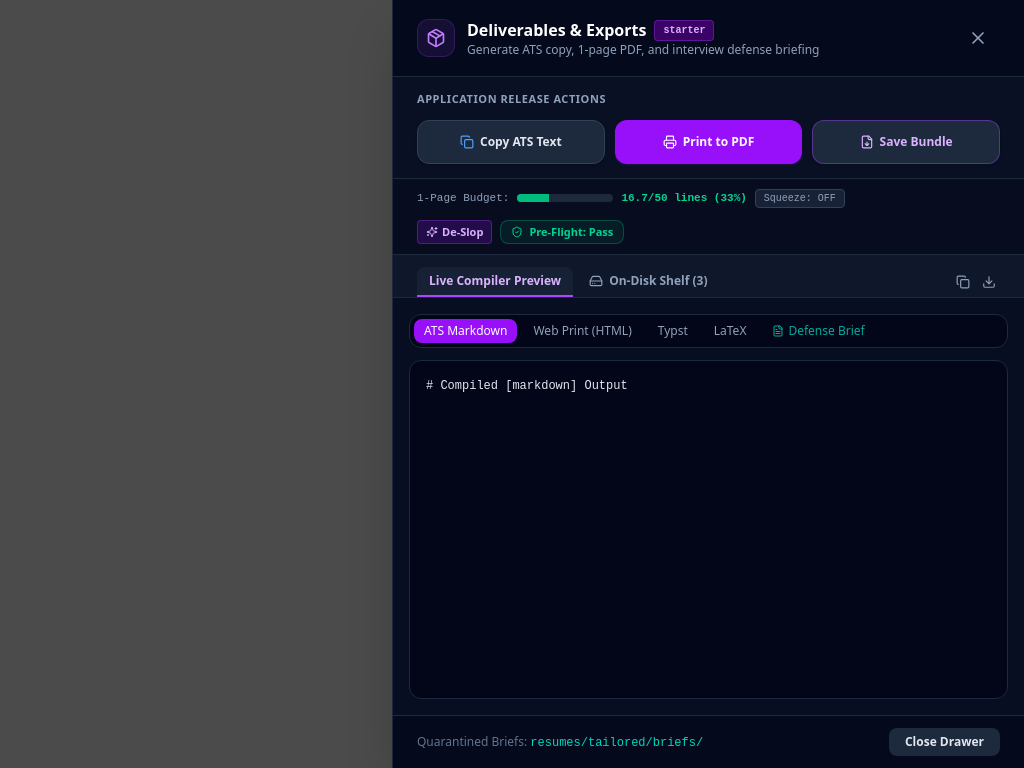
it: ExportDrawer Component Tests › renders flyout drawer when isOpen is true
The image size is (1024, 768).
Expected: the heading "Deliverables & Exports starter" is shown, left=467, top=19, right=714, bottom=41
Expected: the text "starter" is shown, left=654, top=20, right=714, bottom=40
Click the button "On-Disk Shelf (3)" at (648, 282), box left=577, top=268, right=720, bottom=298
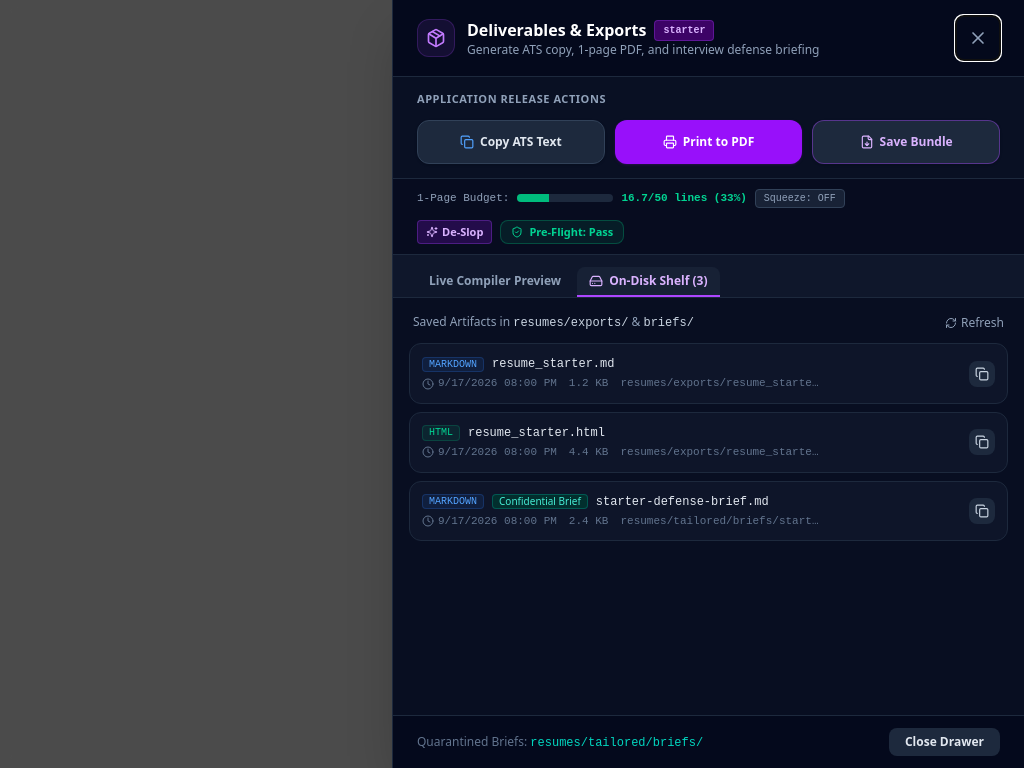
Expected: the text "resume_starter.md" is shown, left=492, top=356, right=614, bottom=372
